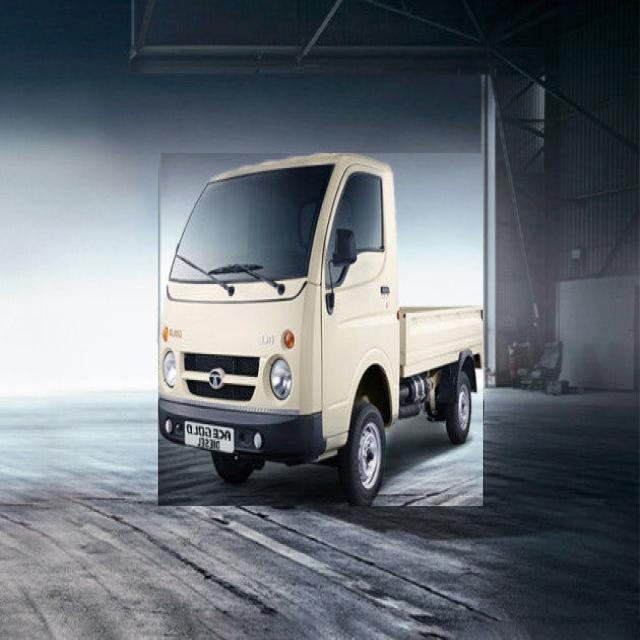truck: (159, 154, 483, 506)
